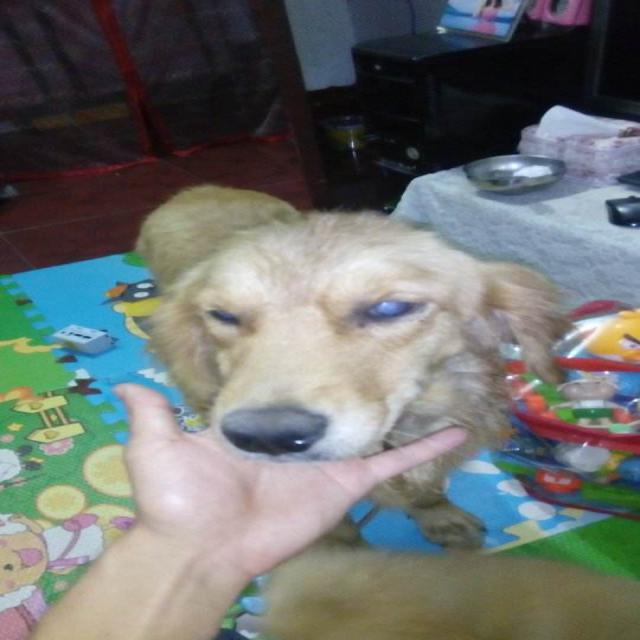eye: (353, 294, 428, 324)
